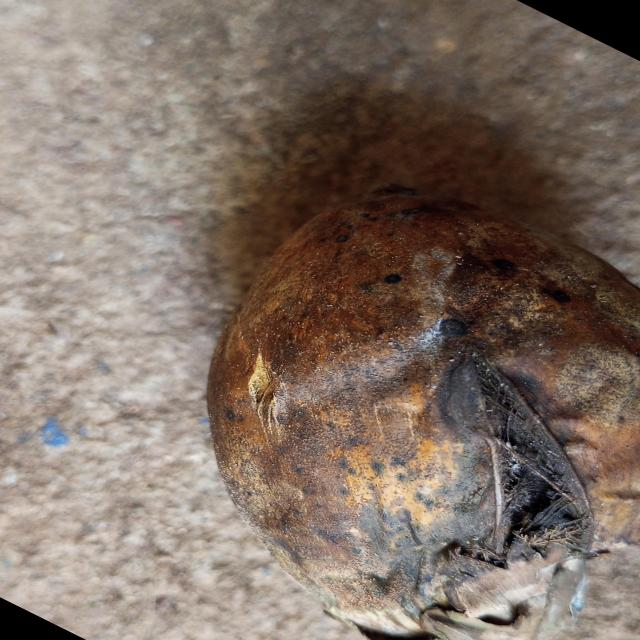damaged: (205, 188, 640, 640)
